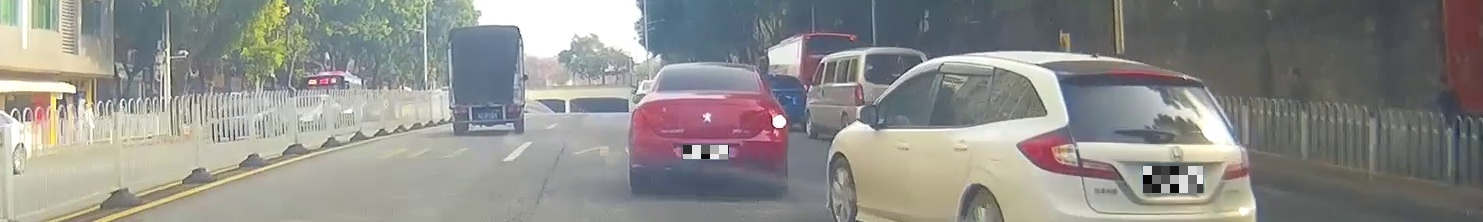L_light: (1015, 124, 1123, 181), (632, 111, 647, 127), (454, 109, 467, 113)
R_light: (1221, 145, 1249, 179), (771, 112, 786, 129), (508, 107, 519, 112)
T_light: (1111, 69, 1182, 79), (703, 67, 720, 71), (477, 30, 491, 31)
day-no: (1012, 66, 1256, 222), (448, 25, 524, 135)
day-right: (628, 63, 787, 194)
plate_1: (683, 145, 729, 159)
plate_2: (1143, 166, 1203, 193)
